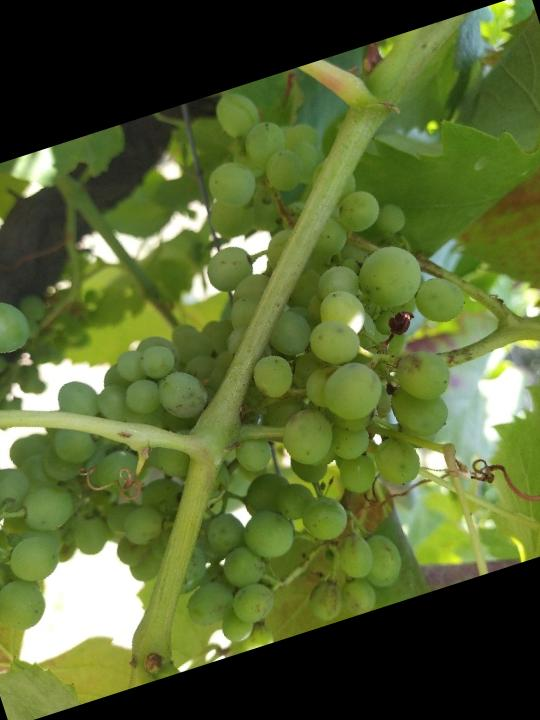grape: (0, 45, 540, 703)
